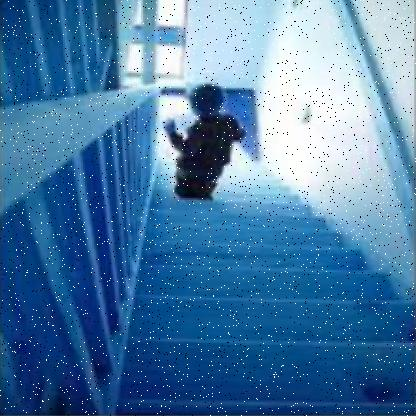stair_down: (136, 257, 400, 380)
